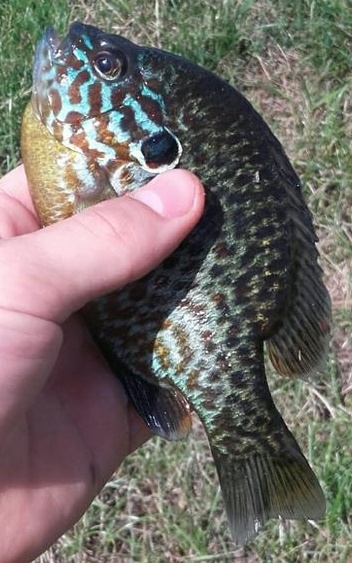Lepomis gibbosus: (20, 20, 332, 543)
